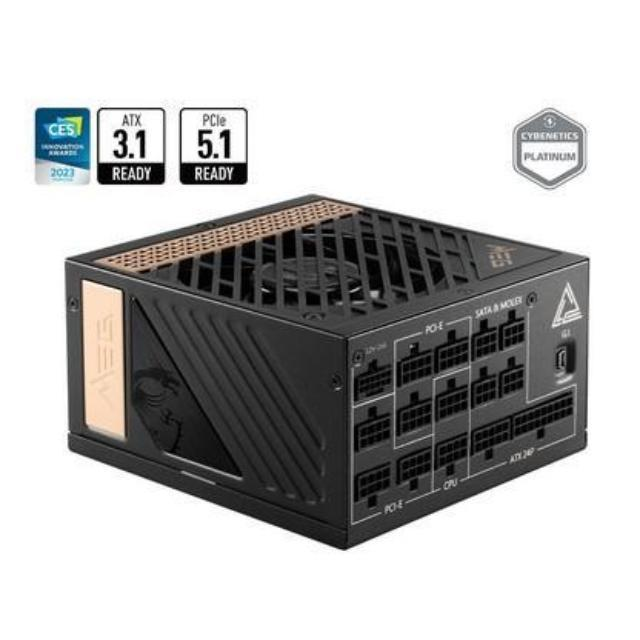PSU: (62, 183, 600, 554)
